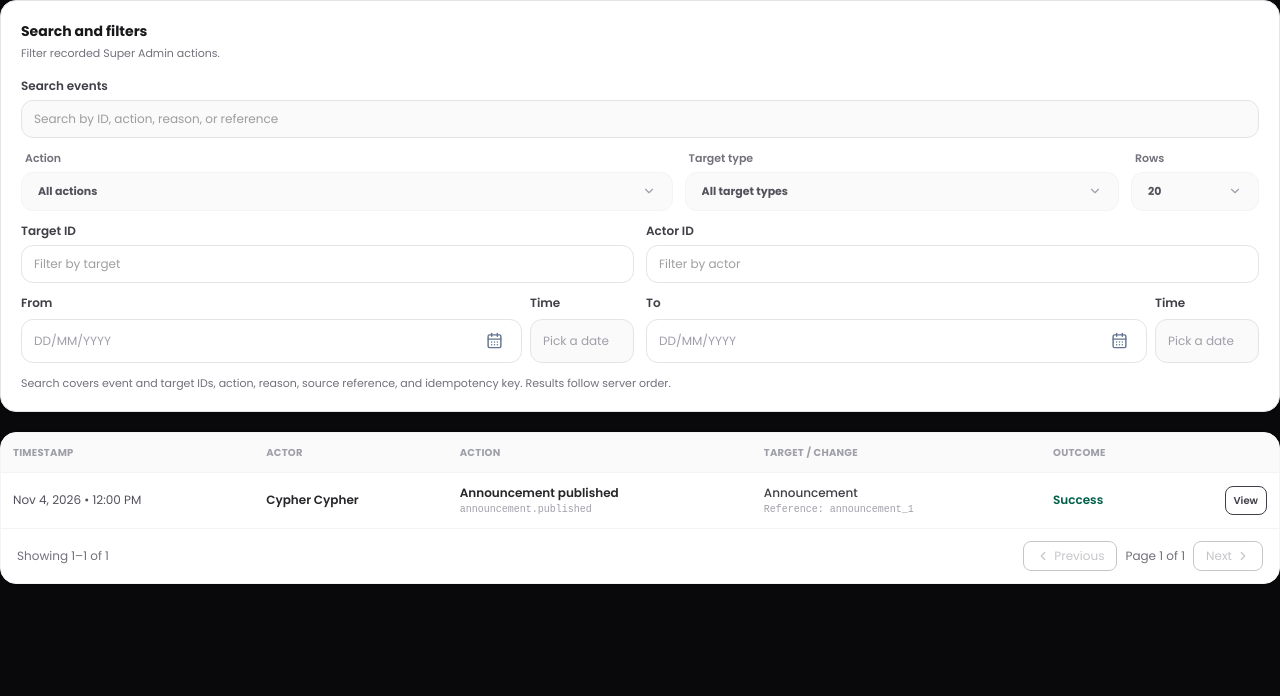
Test: Super Admin audit trail › formats actor names and clearly shows announcement audience without migration wording
This screenshot has width=1280, height=696.
Expected: the text "Cypher Cypher" is shown, [254, 472, 448, 528]
Expected: the text "Announcement" is shown, [764, 484, 858, 500]
Click the button "View": click(1246, 500) [1224, 486, 1267, 515]
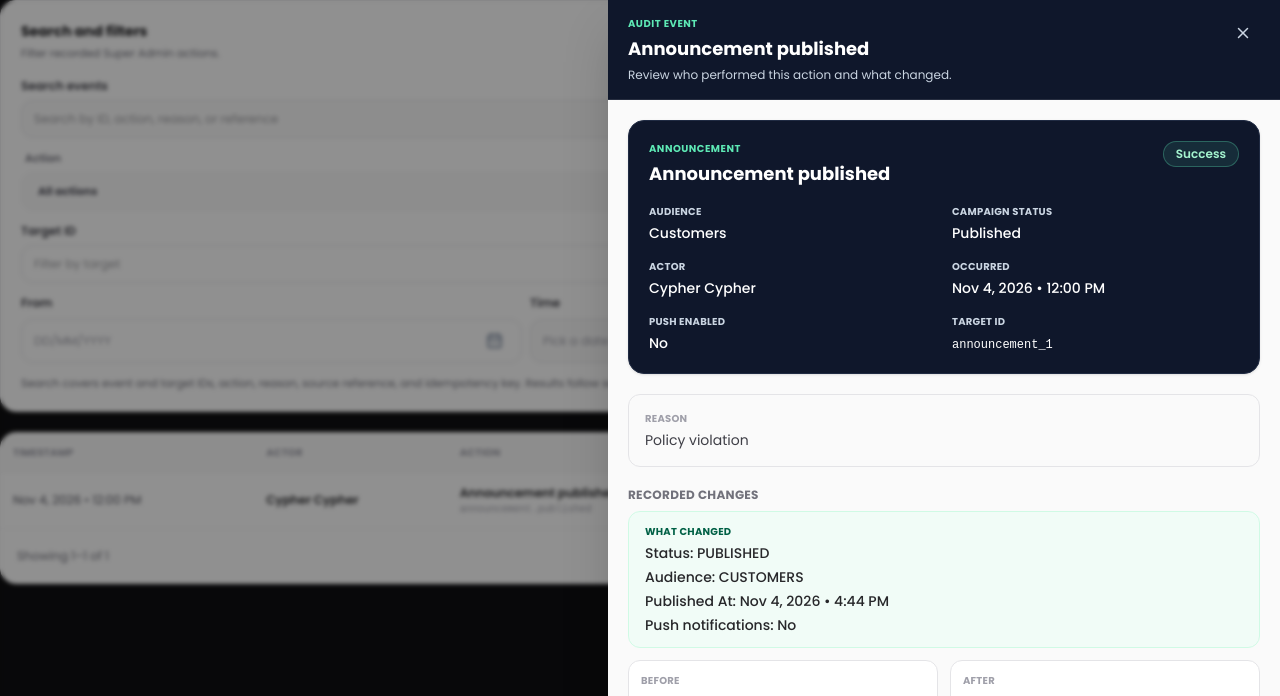
Result: the dialog shows "Customers" at [649, 223, 727, 243]
Result: the dialog shows "Cypher Cypher" at [649, 278, 756, 298]
Result: the dialog shows "Nov 4, 2026" at [952, 278, 1105, 298]
